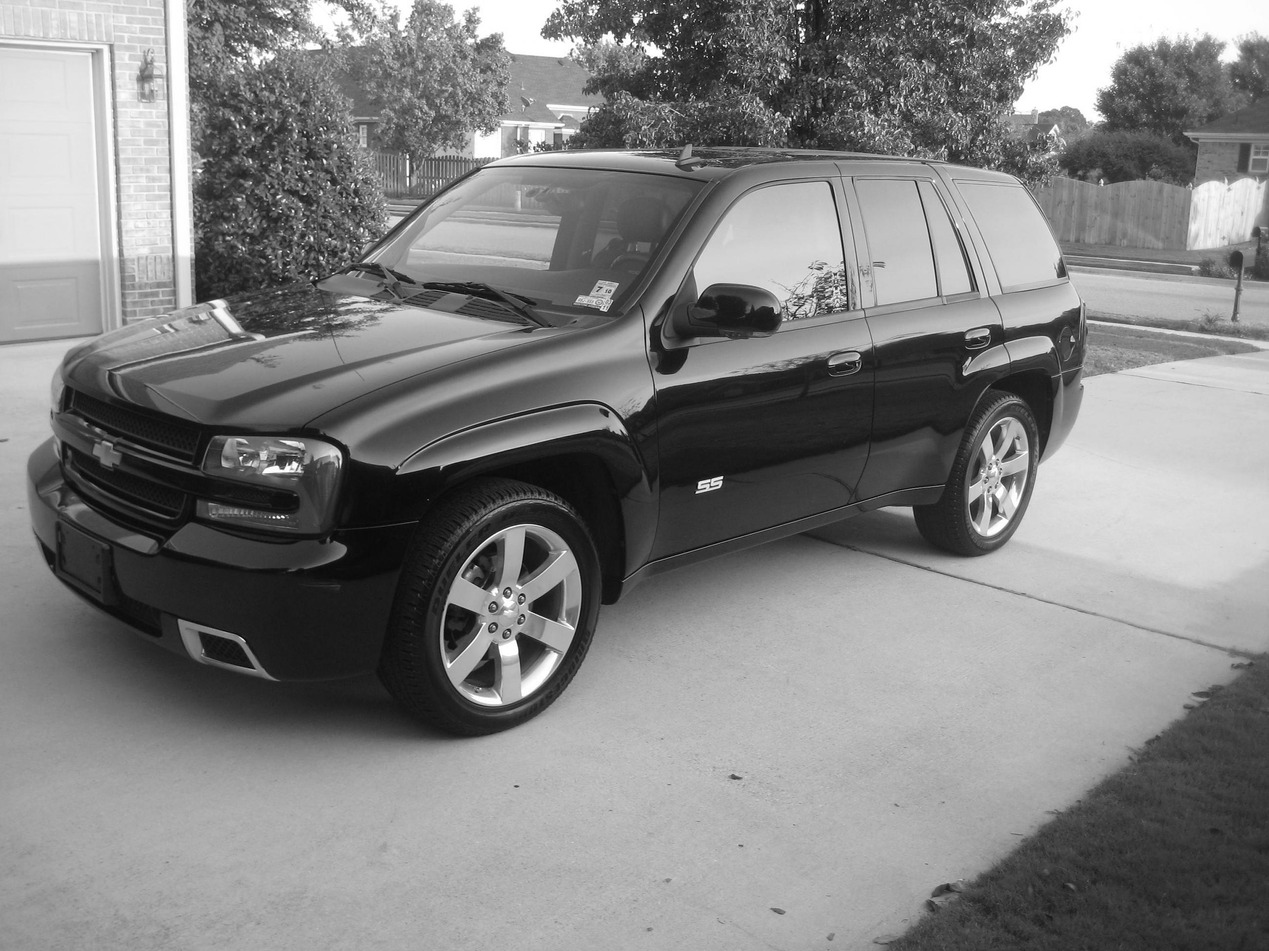car: (26, 150, 1095, 747)
